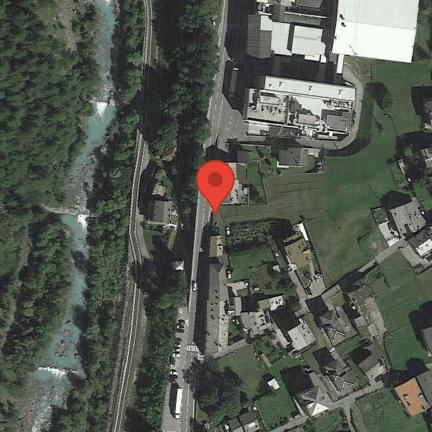area_open: (159, 305, 190, 432), (377, 197, 428, 247), (220, 89, 247, 163), (289, 261, 327, 301)
built: (247, 0, 420, 75), (242, 77, 356, 141), (230, 295, 285, 339), (204, 264, 229, 352), (395, 369, 432, 416), (279, 231, 315, 271), (358, 341, 387, 383), (318, 308, 350, 345), (325, 359, 357, 394), (221, 162, 247, 205), (300, 385, 330, 415), (287, 320, 316, 351), (148, 200, 177, 229), (411, 225, 432, 255), (228, 413, 261, 432), (277, 146, 300, 169), (420, 325, 432, 362), (210, 233, 223, 258), (422, 144, 432, 168)
vegetation_high: (0, 1, 102, 432), (51, 0, 145, 432), (152, 0, 221, 208), (130, 276, 188, 432), (196, 363, 237, 419), (403, 147, 426, 179)
vegetation_low: (210, 0, 432, 321), (327, 244, 432, 390), (217, 310, 340, 431), (141, 199, 198, 284), (356, 388, 432, 432), (285, 408, 350, 431)
water: (19, 1, 121, 432)
